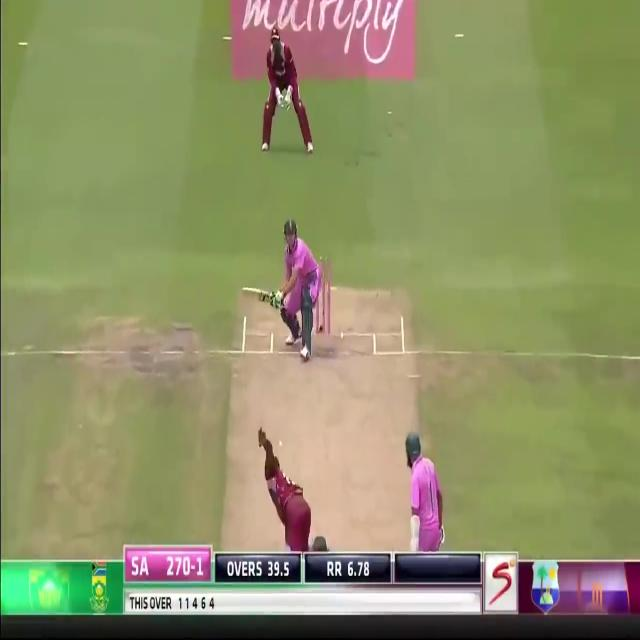Ball: (277, 219, 326, 359), (406, 434, 448, 552)
Fielder: (262, 18, 314, 152), (260, 426, 313, 552)
